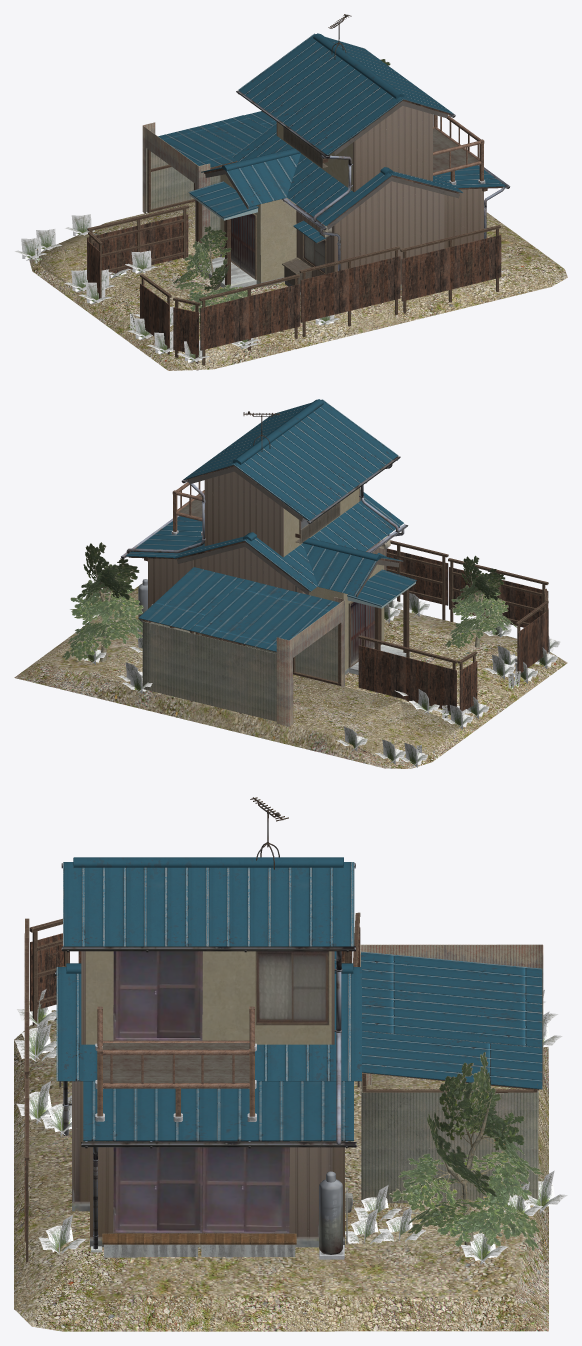
File: houseset08.fbx
3 views of the same model, one above another, from view 1: azimuth 30°, elevation 25°; view 2: azimuth 150°, elevation 25°; view 3: azimuth 270°, elevation 25° (orthographic). The views are drawn at different scales.
Parts seen in each view (by area): view 1: houseset08; view 2: houseset08; view 3: houseset08.
Part boxes in pixels (x1,y1,x2,y2): houseset08: [14, 14, 567, 370]; houseset08: [14, 399, 567, 768]; houseset08: [14, 797, 567, 1331].
Size of the model in its own units: 1345 by 970 by 783.
Materials: 14 (14 with a texture image).
